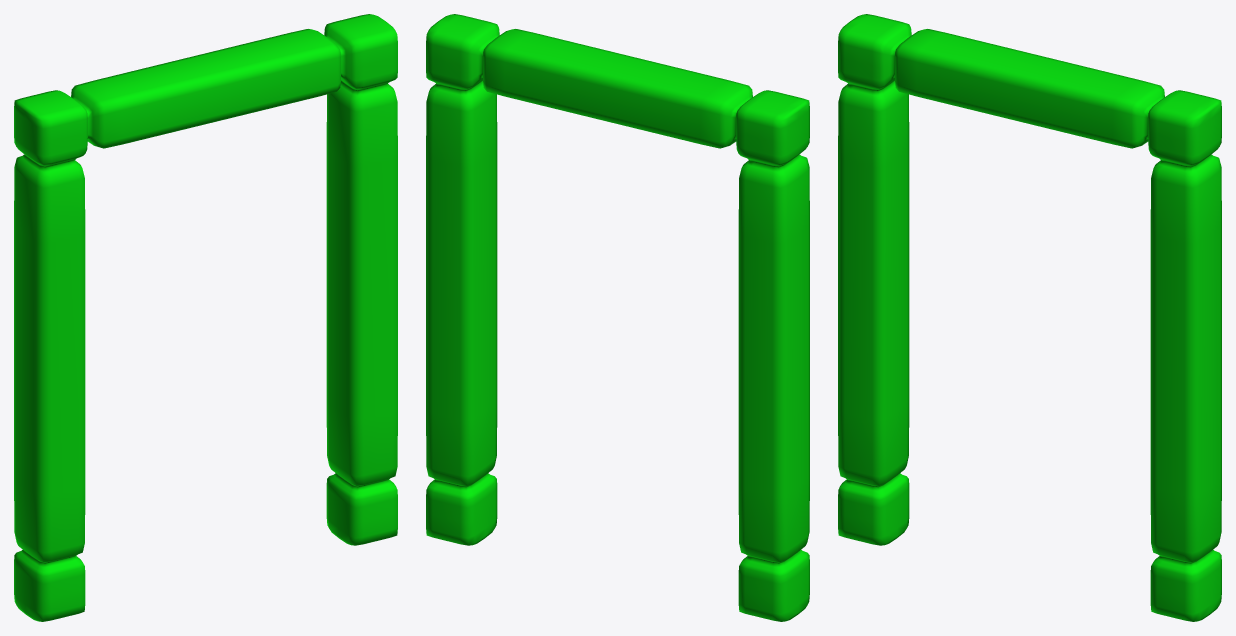
The model's file is door.fbx.
3 renders of one model, left to right at view 1: azimuth 30°, elevation 25°; view 2: azimuth 150°, elevation 25°; view 3: azimuth 330°, elevation 25°, orthographic.
Visible parts, largest first — view 1: door; view 2: door; view 3: door.
Part boxes in pixels (x1,y1,x2,y2): door: (14, 14, 397, 621); door: (426, 14, 809, 621); door: (838, 14, 1221, 621).
Bounding box in the file's own units: 255 × 342 × 37.28.
